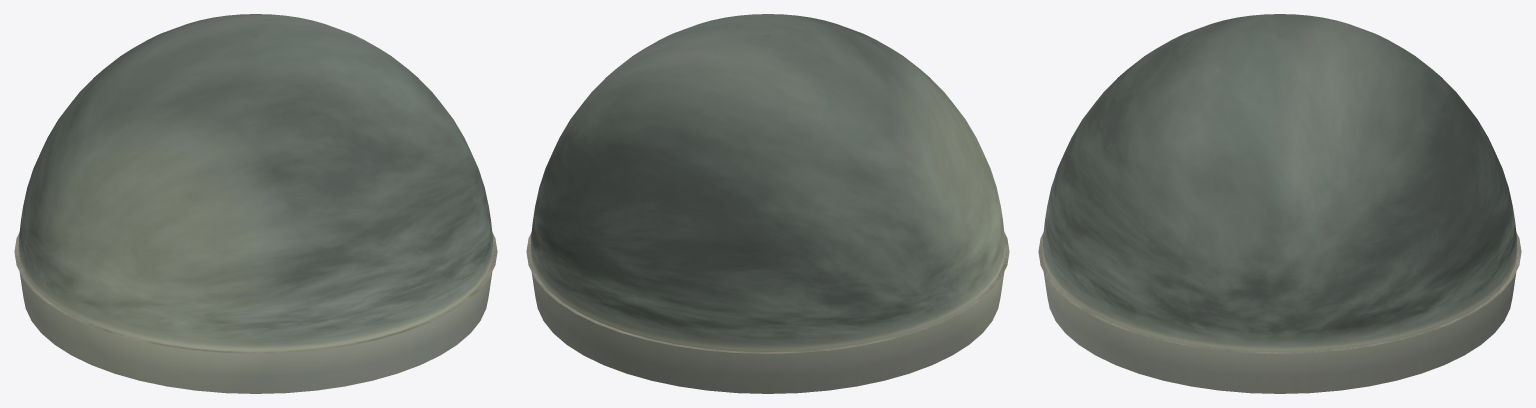
The model's file is kansas_farmhouse.gltf.
3 views of the same model, side by side, from view 1: azimuth 30°, elevation 25°; view 2: azimuth 150°, elevation 25°; view 3: azimuth 270°, elevation 25° (orthographic).
Visible parts, largest first — view 1: SkyDome, far.prairie; view 2: SkyDome, far.prairie; view 3: SkyDome, far.prairie.
Part boxes in pixels (x1=…): SkyDome: x1=18, y1=14, x2=493, y2=393; far.prairie: x1=14, y1=232, x2=497, y2=353; SkyDome: x1=530, y1=14, x2=1005, y2=393; far.prairie: x1=526, y1=232, x2=1009, y2=353; SkyDome: x1=1042, y1=14, x2=1517, y2=393; far.prairie: x1=1038, y1=232, x2=1521, y2=353.
Size of the model in its own units: 118 by 70.06 by 118.
Materials: 28 (28 with a texture image).
